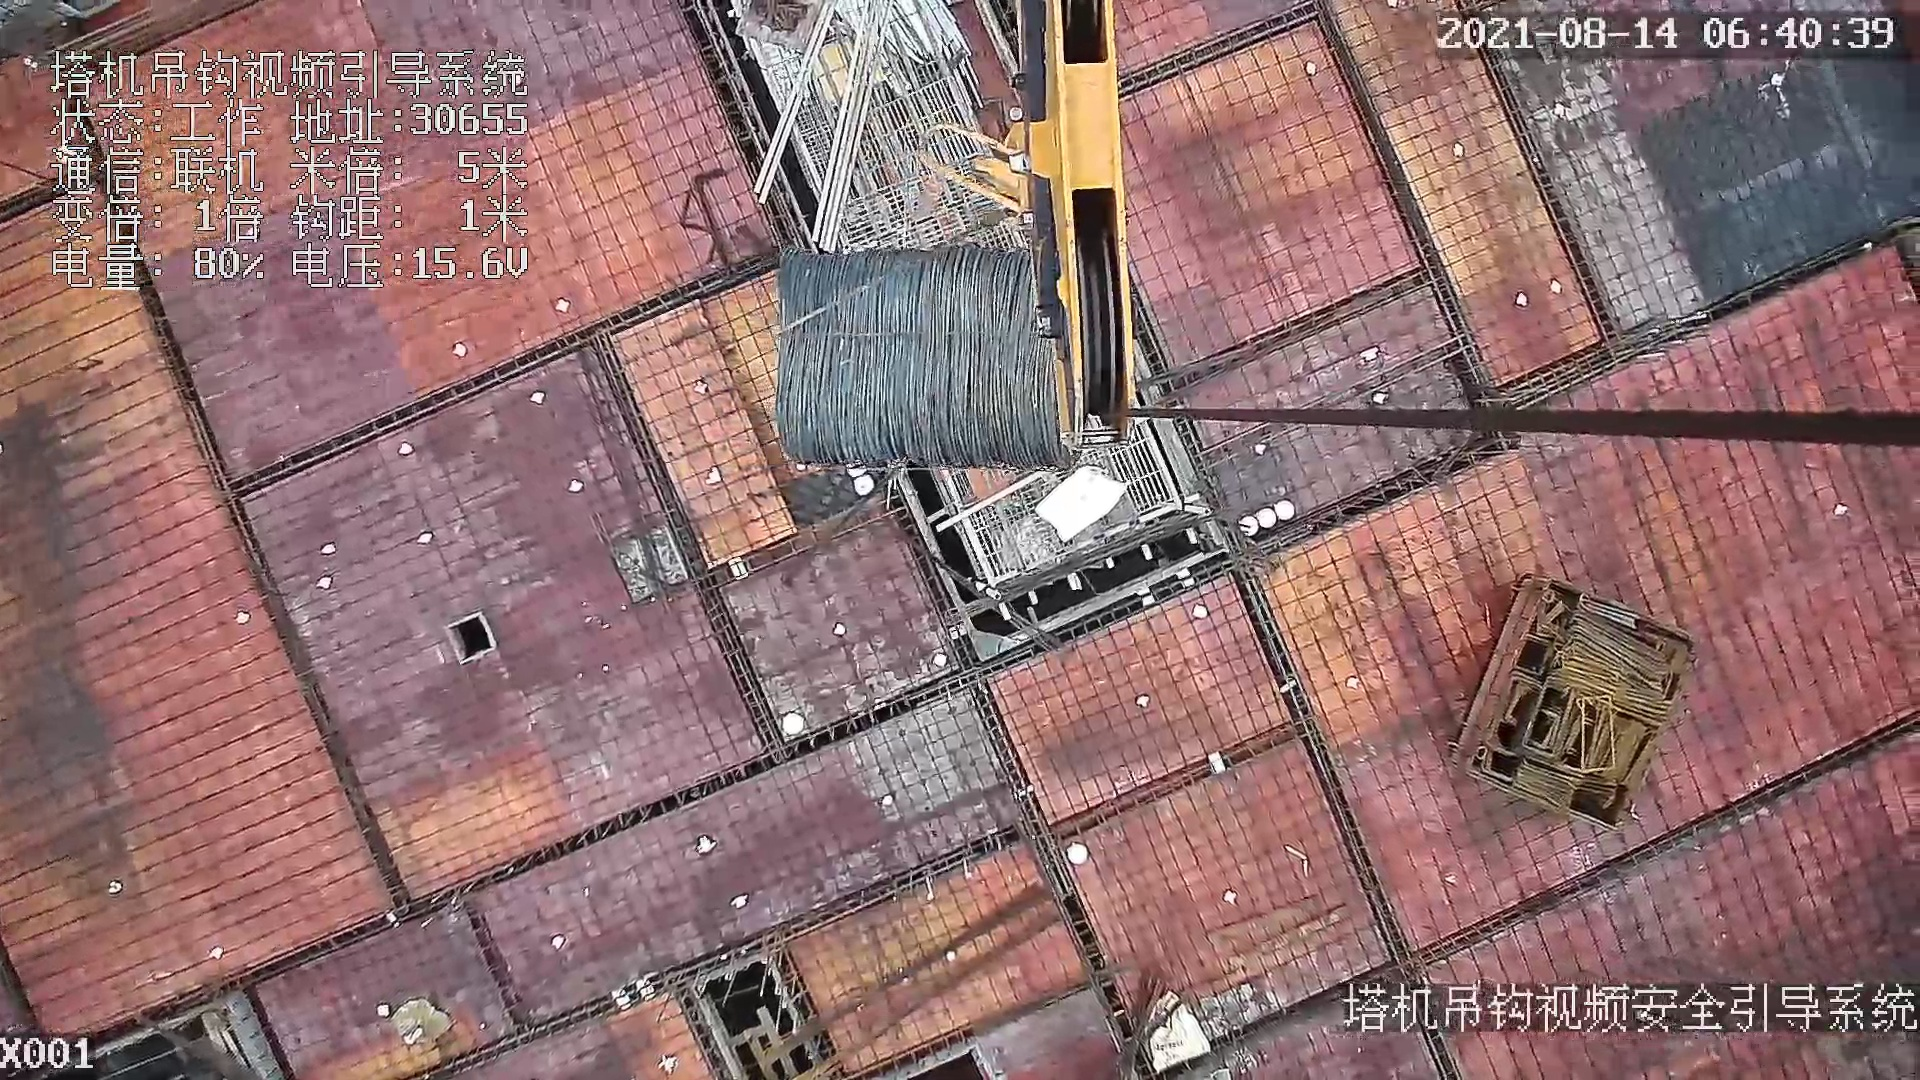hook: (914, 1, 1139, 455)
